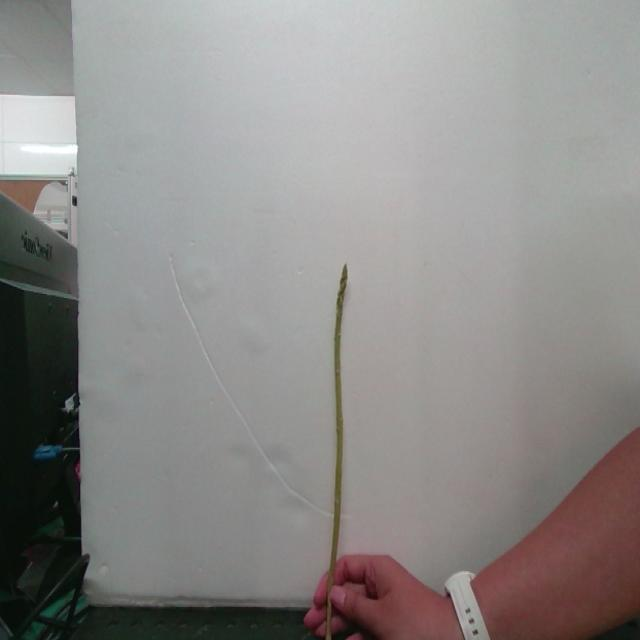aspargus: (329, 266, 350, 588)
